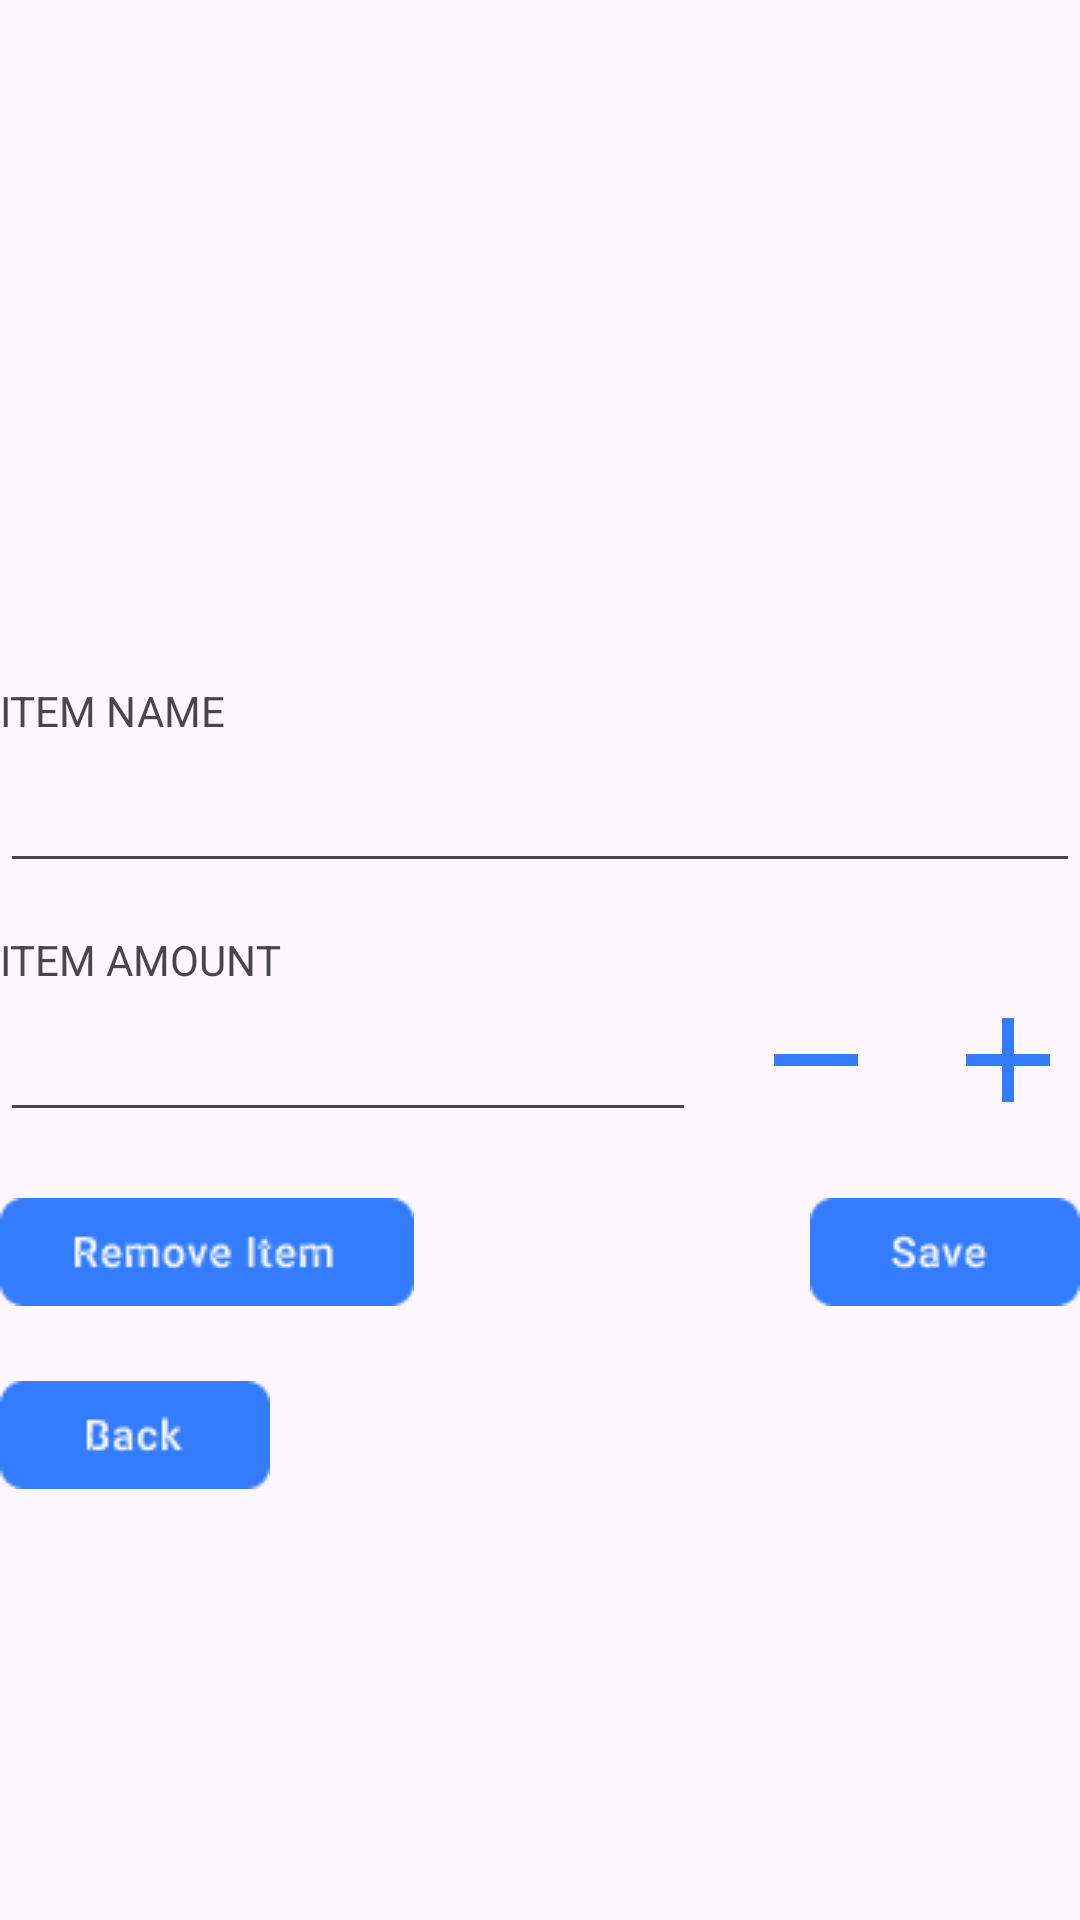

Named icons in this screenshot (1080 × 1920) and their bounding boxes, (x1, y1, x2, y2):
Add: (966, 1018, 1050, 1102)
